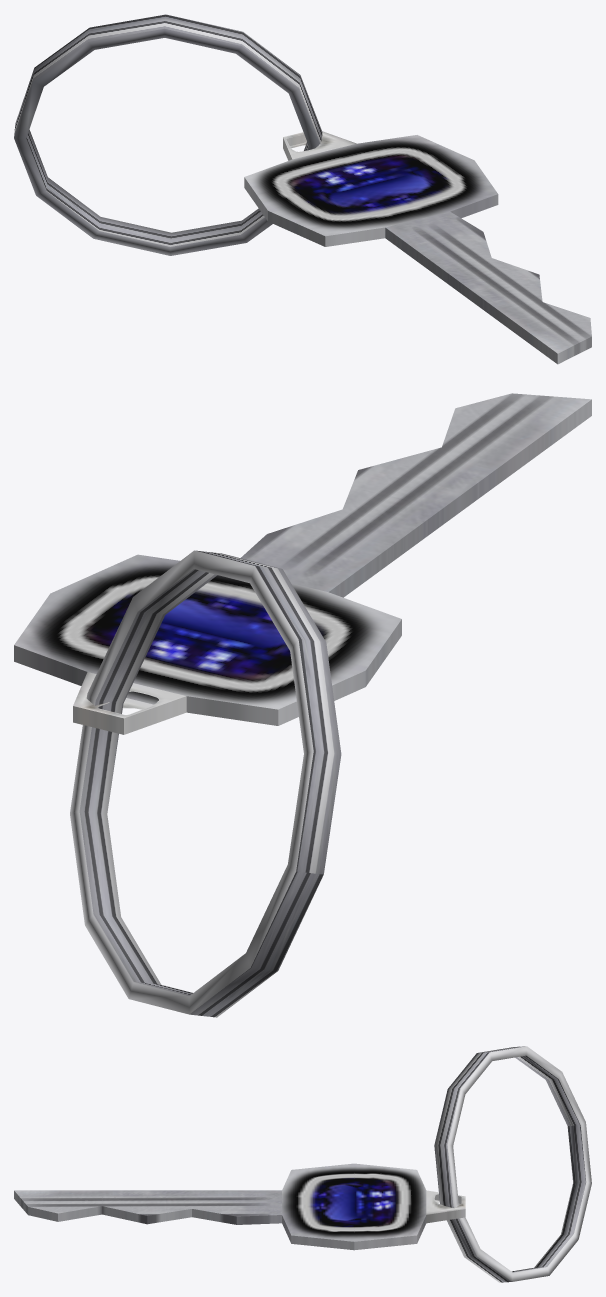
The model's file is key_j_tanzanite.fbx.
3 views of the same model, one above another, from view 1: azimuth 30°, elevation 25°; view 2: azimuth 150°, elevation 25°; view 3: azimuth 270°, elevation 25° (orthographic). The views are drawn at different scales.
Visible parts, largest first — view 1: key_j_tanz; view 2: key_j_tanz; view 3: key_j_tanz.
Boxes of the visible parts, x1,y1,x2,y2 form: key_j_tanz: [14, 14, 591, 364]; key_j_tanz: [14, 393, 591, 1017]; key_j_tanz: [14, 1046, 591, 1282].
Size of the model in its own units: 10.09 by 8.2 by 20.33.
Materials: 1 (1 with a texture image).
